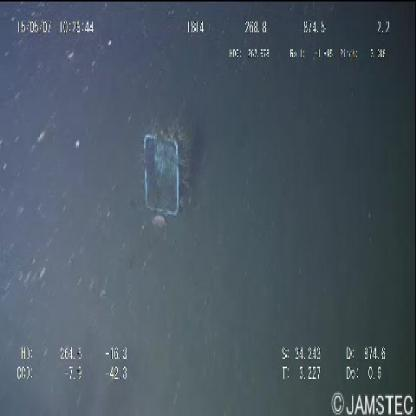Rác: (136, 120, 186, 235)
